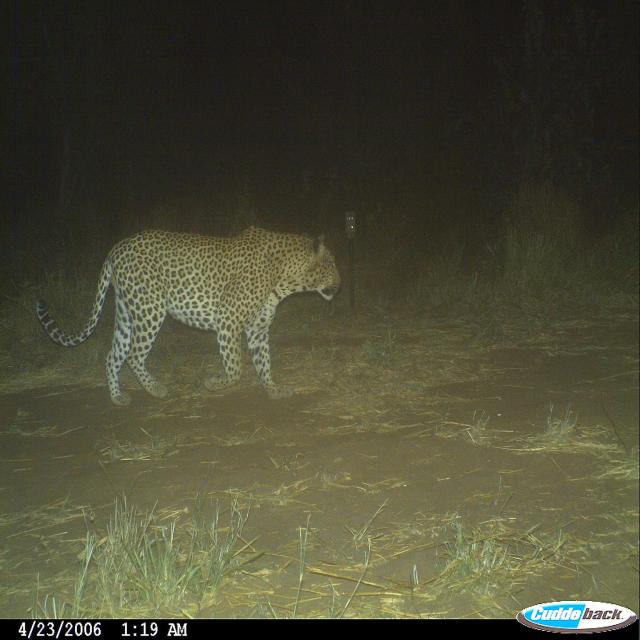Leopard: (26, 223, 351, 401)
